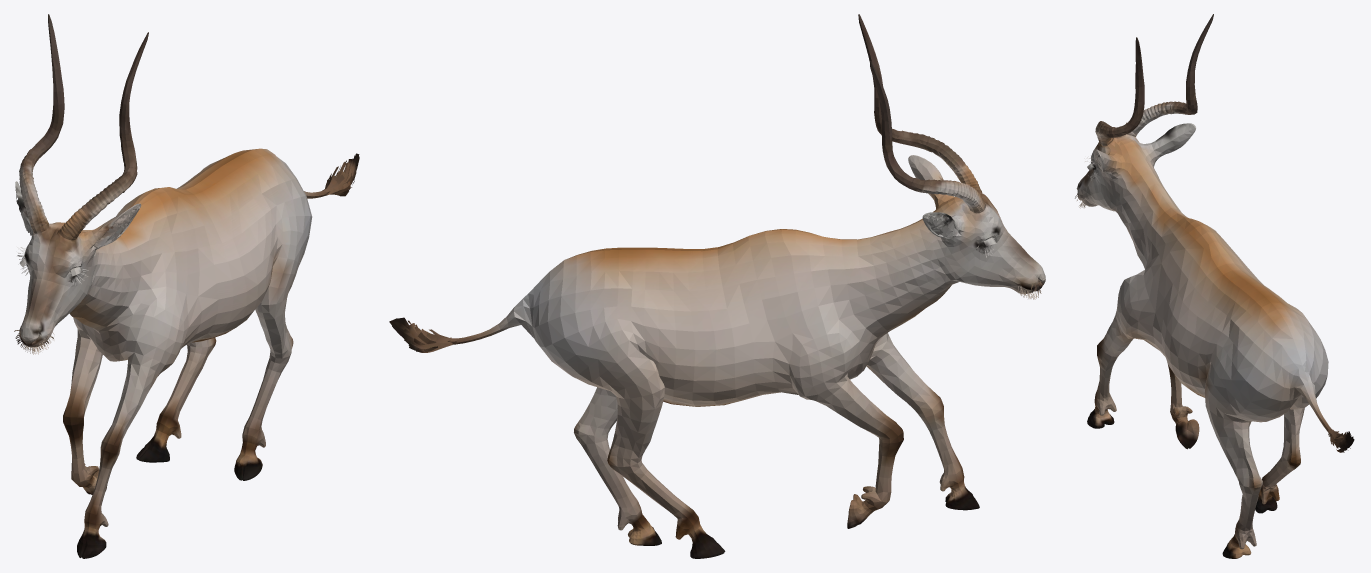
The model's file is addax.mesh.glb.
The picture shows the model from 3 angles, left to right: view 1: azimuth 30°, elevation 25°; view 2: azimuth 150°, elevation 25°; view 3: azimuth 270°, elevation 25°; orthographic projection. The views are drawn at different scales.
Parts seen in each view (by area): view 1: root; view 2: root; view 3: root.
Part boxes in pixels (x1=…): root: x1=14, y1=14, x2=359, y2=558; root: x1=389, y1=14, x2=1045, y2=558; root: x1=1075, y1=14, x2=1354, y2=558.
Size of the model in its own units: 0.6065 by 0.6113 by 0.3449.
1 material, 1 textured.
